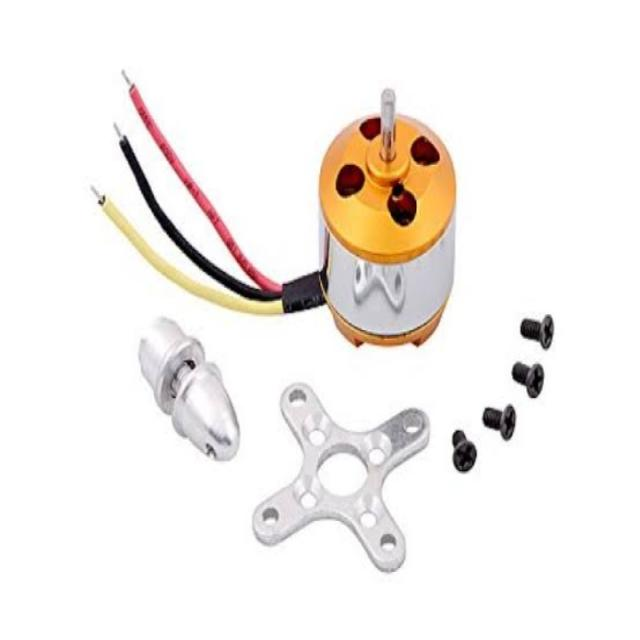motor: (280, 46, 467, 372)
